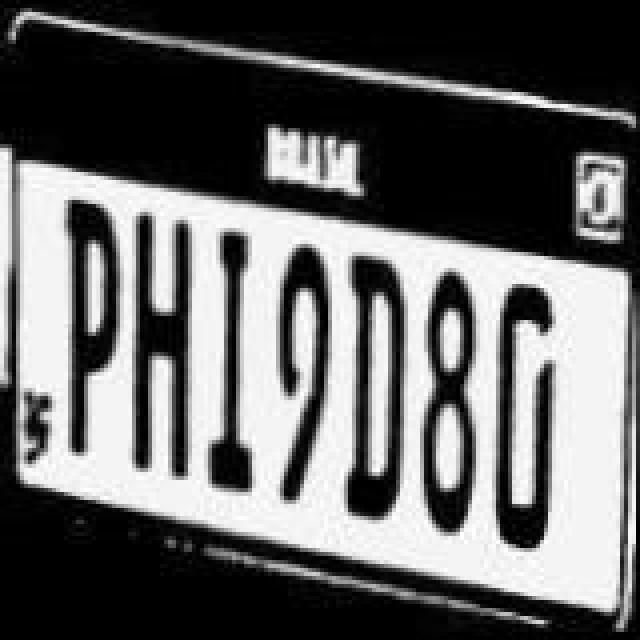8: (420, 250, 492, 542)
9: (268, 234, 340, 530)
D: (344, 230, 416, 522), (494, 274, 562, 558)
H: (124, 210, 208, 482)
I: (206, 216, 278, 512)
P: (58, 200, 130, 464)
